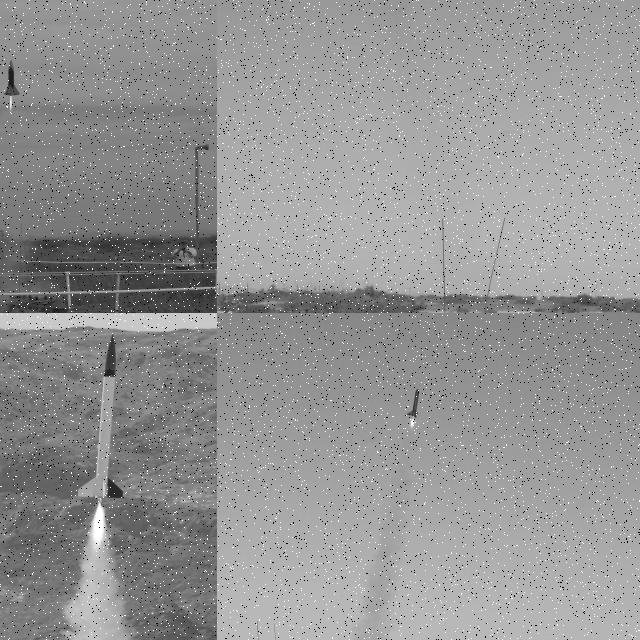Rocket: (76, 332, 124, 499), (3, 58, 21, 96), (407, 389, 421, 418)
